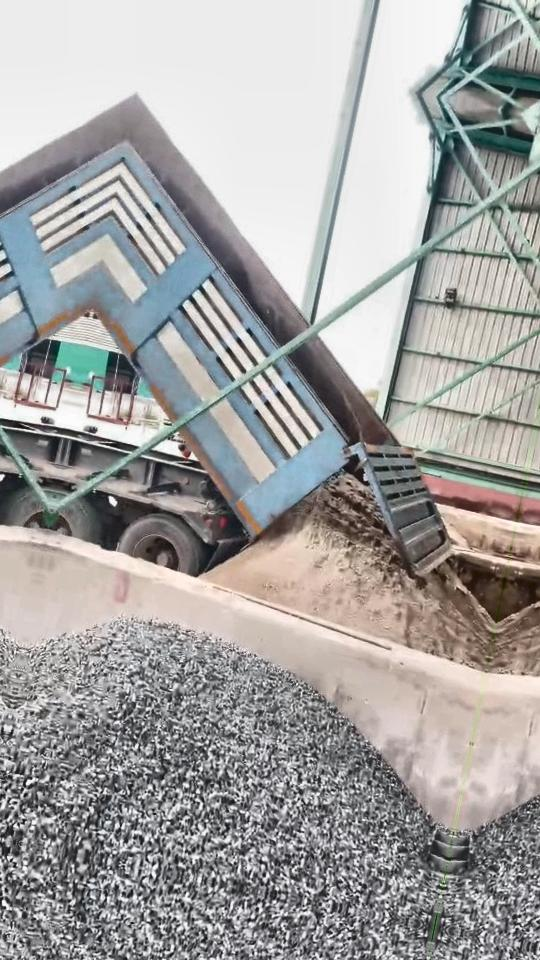gravel: (0, 620, 440, 926)
sand: (205, 474, 494, 668), (440, 506, 513, 558)
